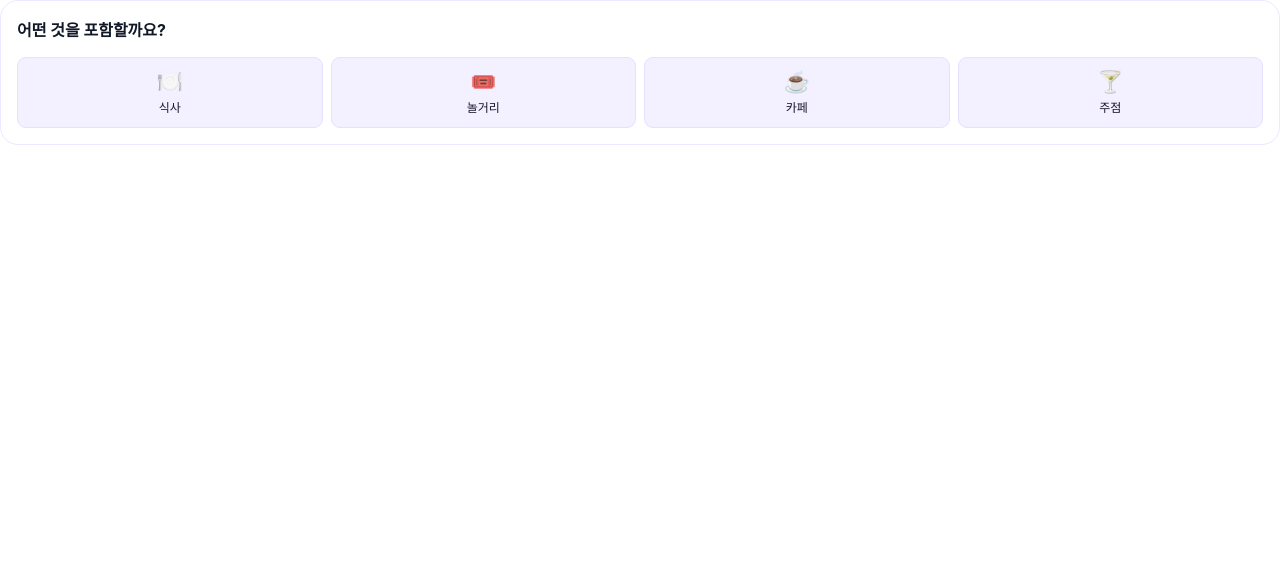
Test: 상단 선택 항목만 설정 표시, 끼니 체크 시에만 음식 종류 표시
Step 1. Click the button "🍽️ 식사" → (170, 92), box top-left (17, 57), bottom-right (322, 128)
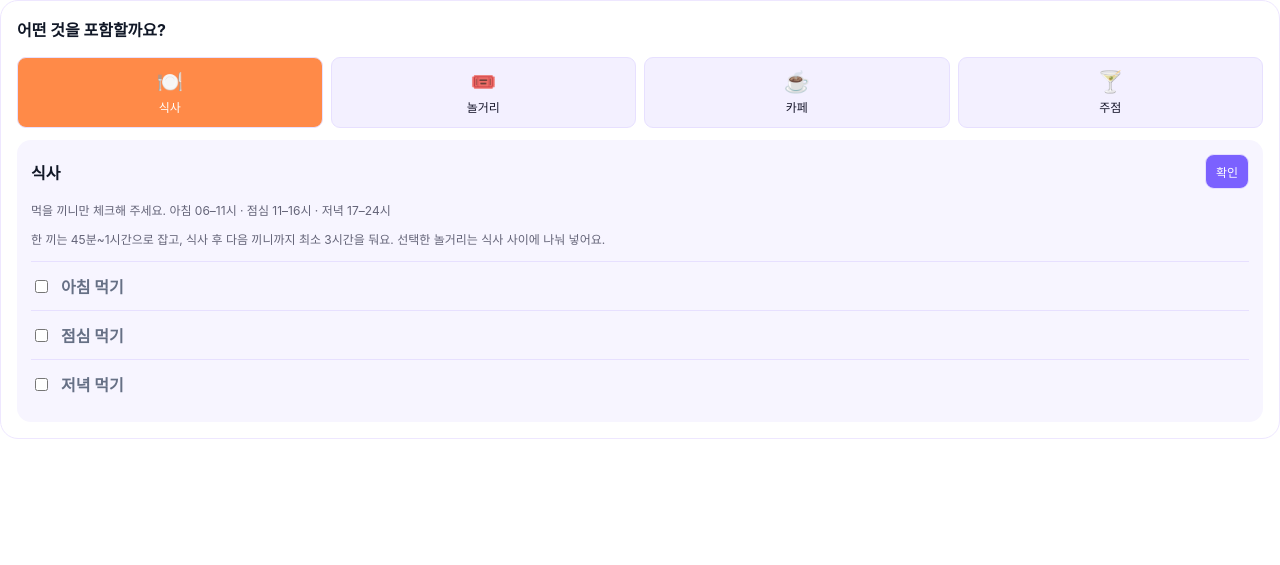
Result: the checkbox labelled "점심 먹기" is not checked
Step 2. Click the checkbox labelled "점심 먹기" → (42, 335), box top-left (35, 329), bottom-right (48, 342)
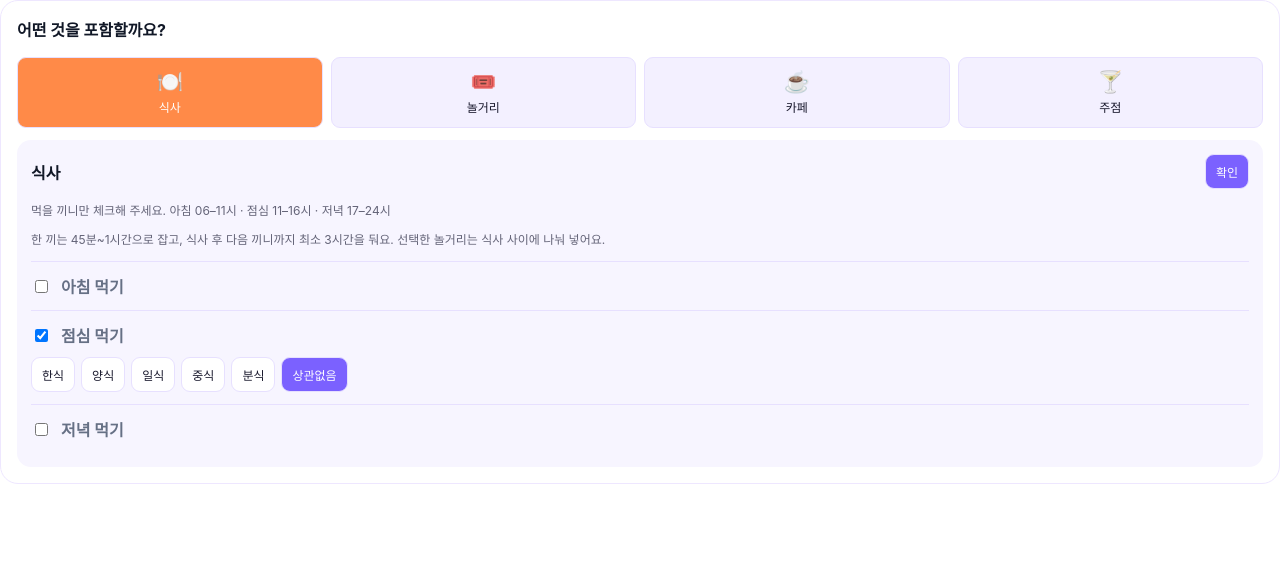
Result: the checkbox labelled "아침 먹기" is not checked at top-left (35, 280), bottom-right (48, 293)
Result: the element named "점심 음식 종류" is shown at top-left (31, 357), bottom-right (348, 392)
Step 3. Click the button "🍽️ 식사" → (170, 92), box top-left (17, 57), bottom-right (322, 128)
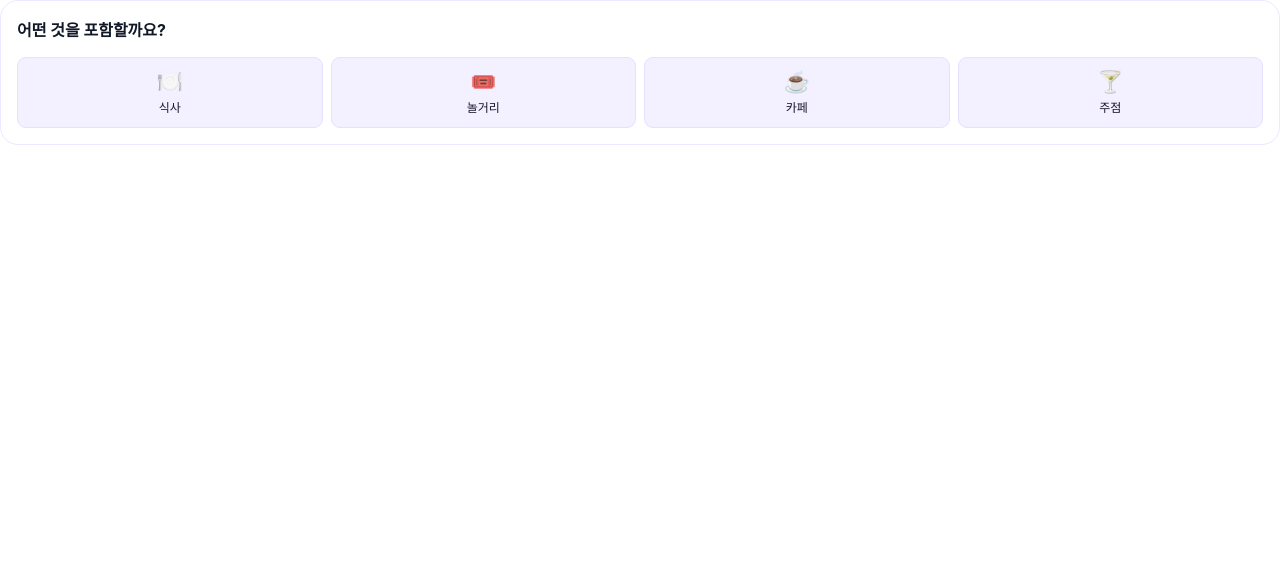
Step 4. Click the button "🍽️ 식사" → (170, 92), box top-left (17, 57), bottom-right (322, 128)
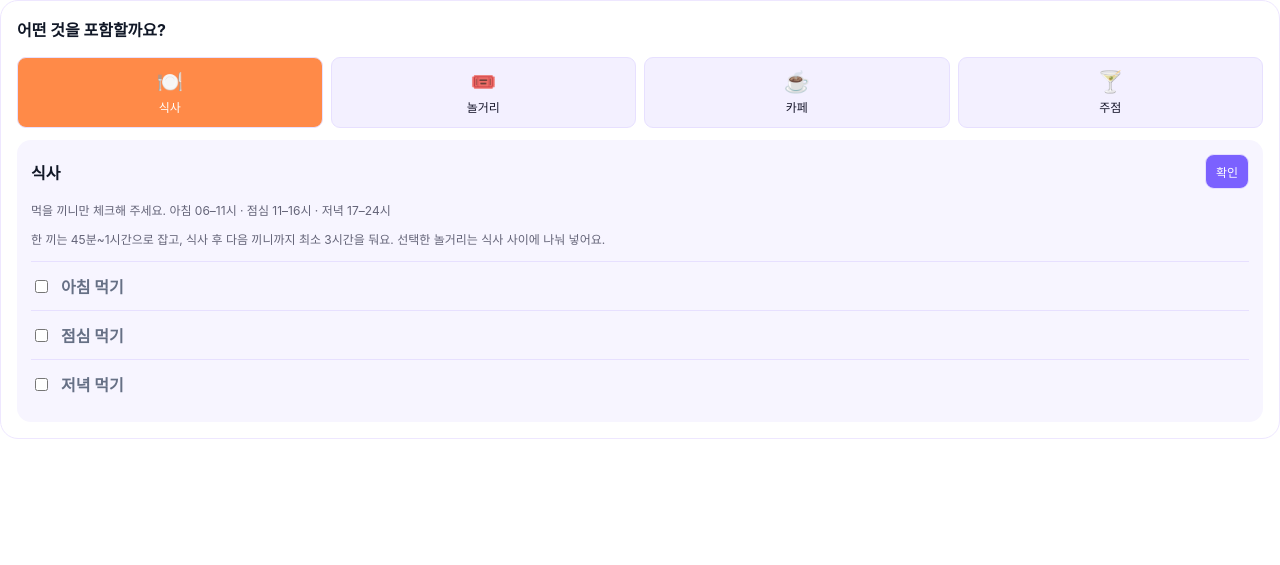
Result: the checkbox labelled "점심 먹기" is not checked at top-left (35, 329), bottom-right (48, 342)
Step 5. Click the button "☕ 카페" → (797, 92), box top-left (644, 57), bottom-right (950, 128)
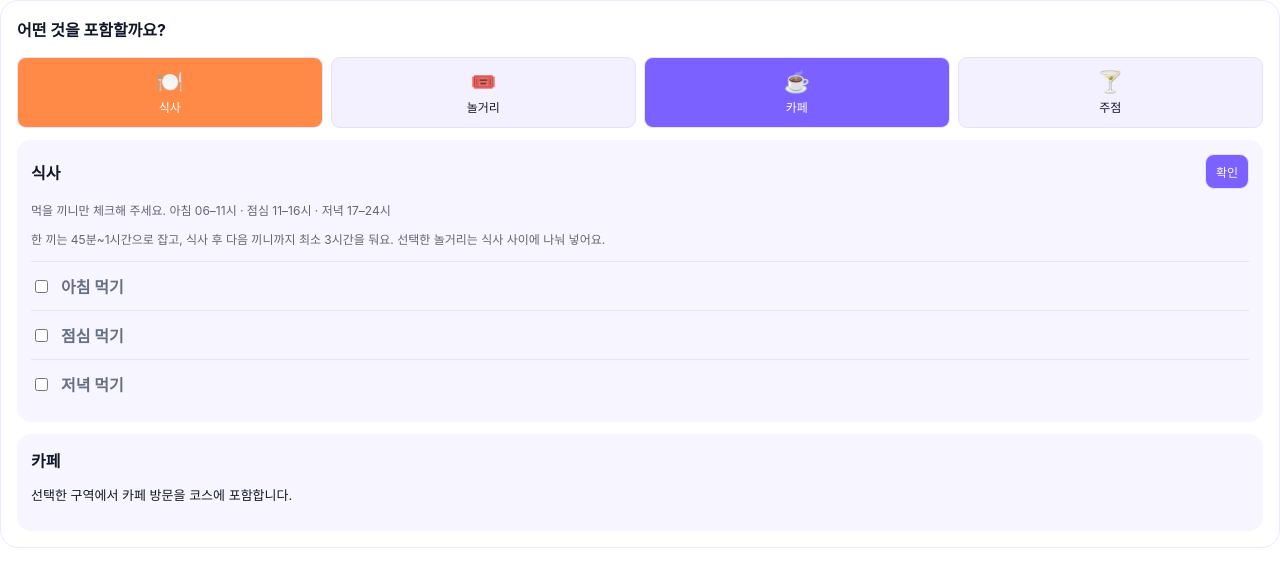
Result: the element named "카페 설정" is shown at top-left (17, 434), bottom-right (1263, 531)
